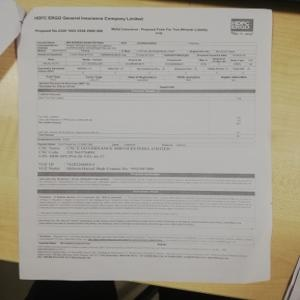image: (224, 14, 255, 33)
table: (36, 86, 257, 146), (32, 38, 258, 87)
text: (38, 192, 257, 213), (36, 145, 174, 172)
